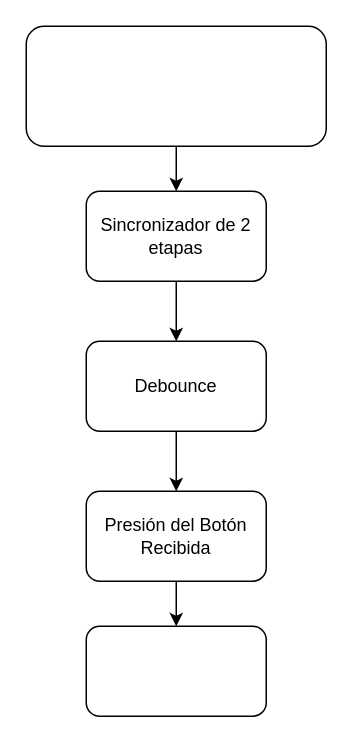
This 353x743 diagram has some shape labels left out. The shapes that lost their labels are listed below. From the top down, each one's centre as x and y in pixels, then its label:
point 175,85: Boton Del Topo
point 175,670: FSM FPGA
